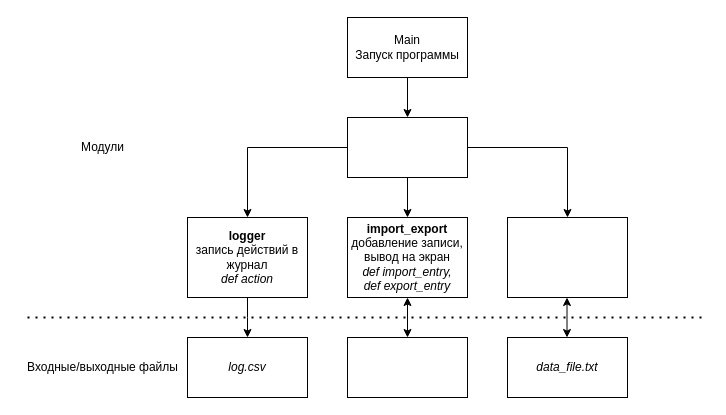
This 726x415 diagram has some shape labels left out. The shapes that lost their labels are listed below. From the top down, each one's box as (x1, y1, x2, y2) in pixels, then its label:
(346, 116, 468, 178): menu_modul ввод данных def menu
(506, 216, 628, 298): adding_an_entry добавление записи, вывод на экран def new_entry, def show_data
(346, 336, 468, 398): temp_file.txt temp_file.{extension}
